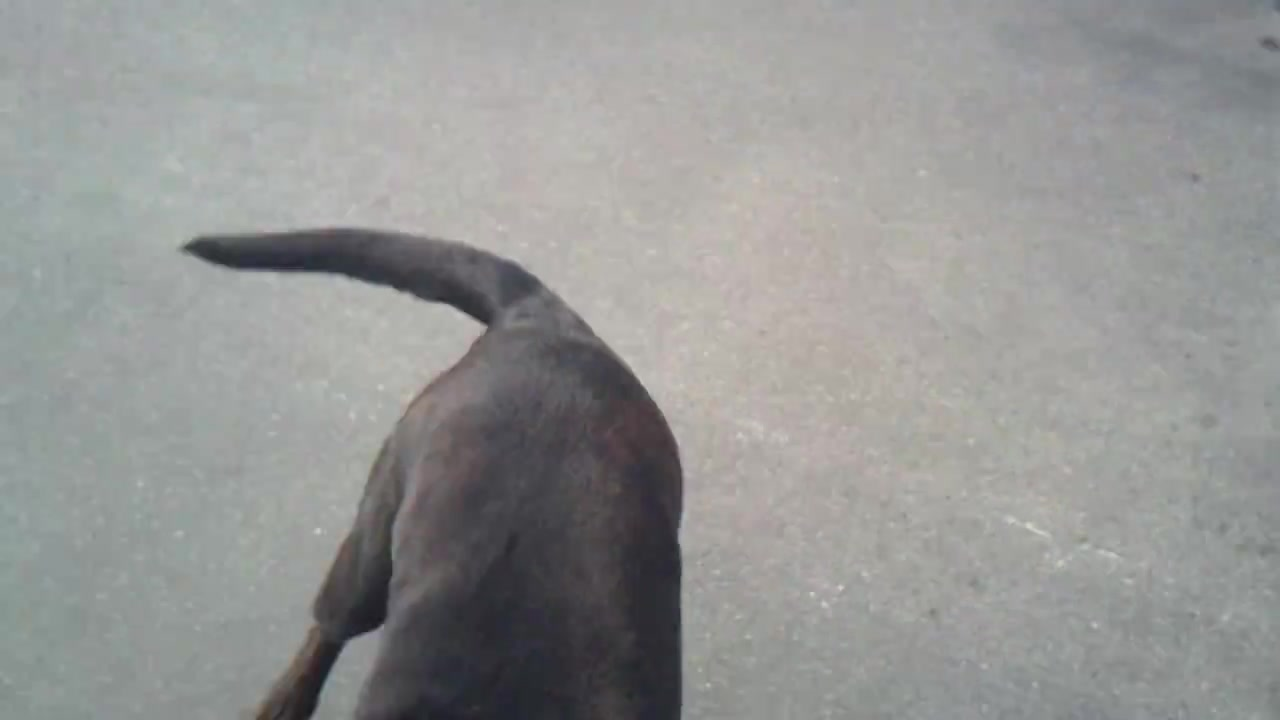dog: (177, 229, 687, 720)
